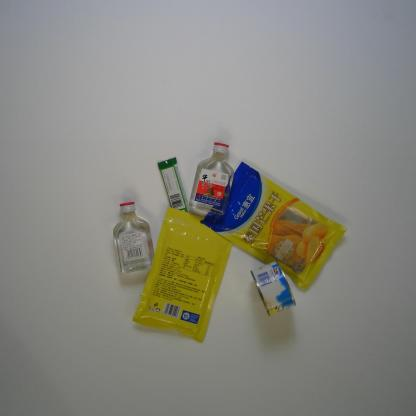Alcohol: (188, 142, 234, 220), (112, 202, 156, 274)
Canned Food: (250, 260, 297, 317)
Chocolate: (157, 156, 192, 228)
Dried Fruit: (199, 161, 348, 294), (131, 206, 233, 345)
